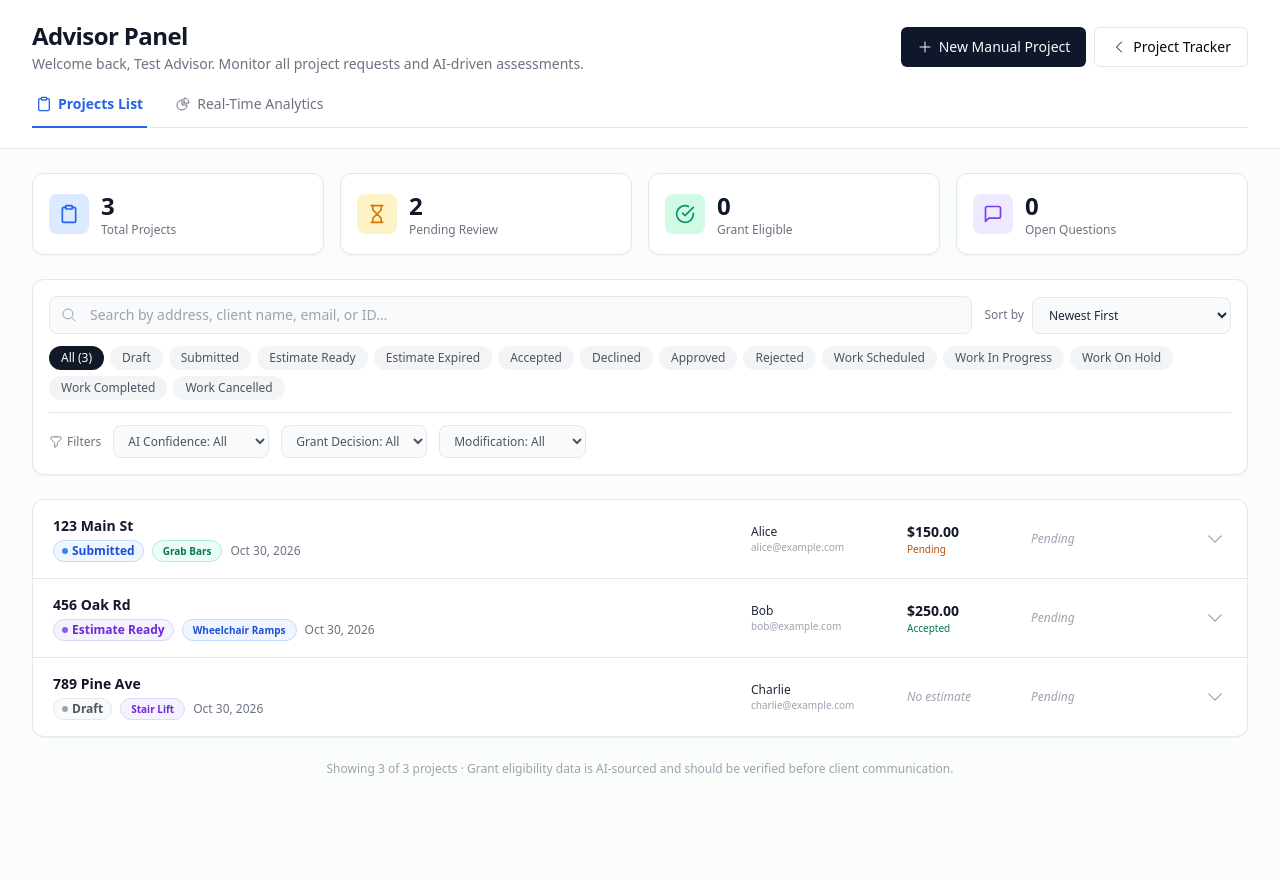
Test: Admin Dashboard Analytics › computes and displays automation rate, pricing accuracy, and deviation on the analytics tab
Expected: the button "Projects List" is shown, [32,94,147,128]
Expected: the text "123 Main St" is shown, [53,516,133,535]
Note: Find the analytics tab and click it
Click the button "Real-Time Analytics". click: x=249, y=111
box: [171,94,328,128]
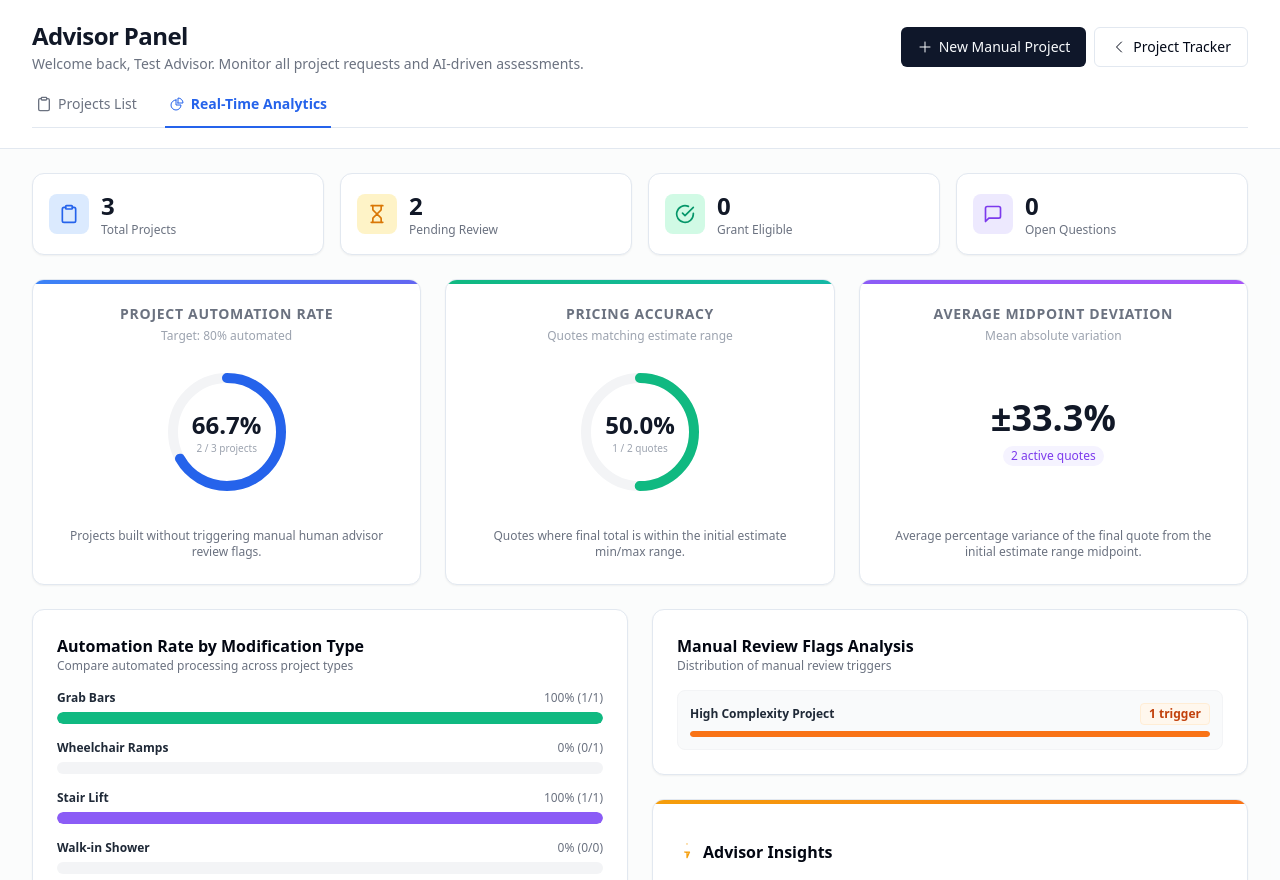
Expected: the text "66.7%" is shown, [192,408,262,440]
Expected: the text "2 / 3 projects" is shown, [192,440,262,456]
Expected: the text "50.0%" is shown, [605,408,675,440]
